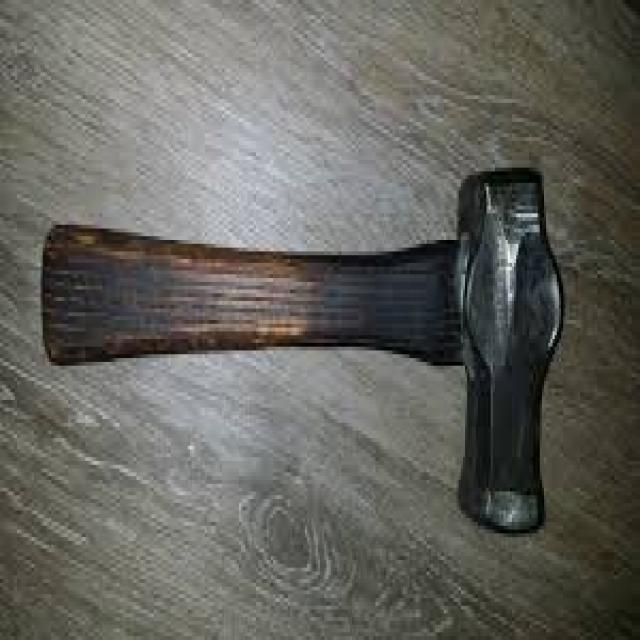hammer: (39, 158, 568, 543)
